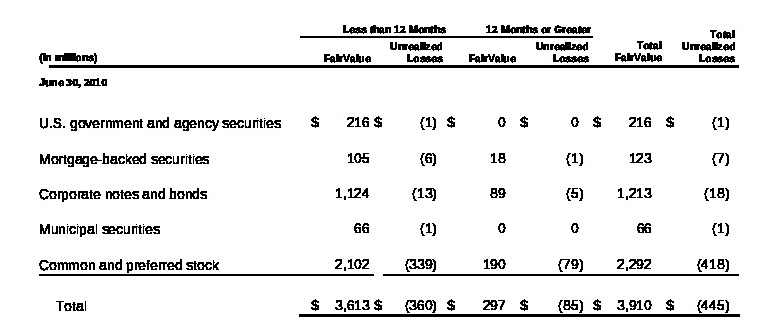table: (0, 0, 759, 336)
